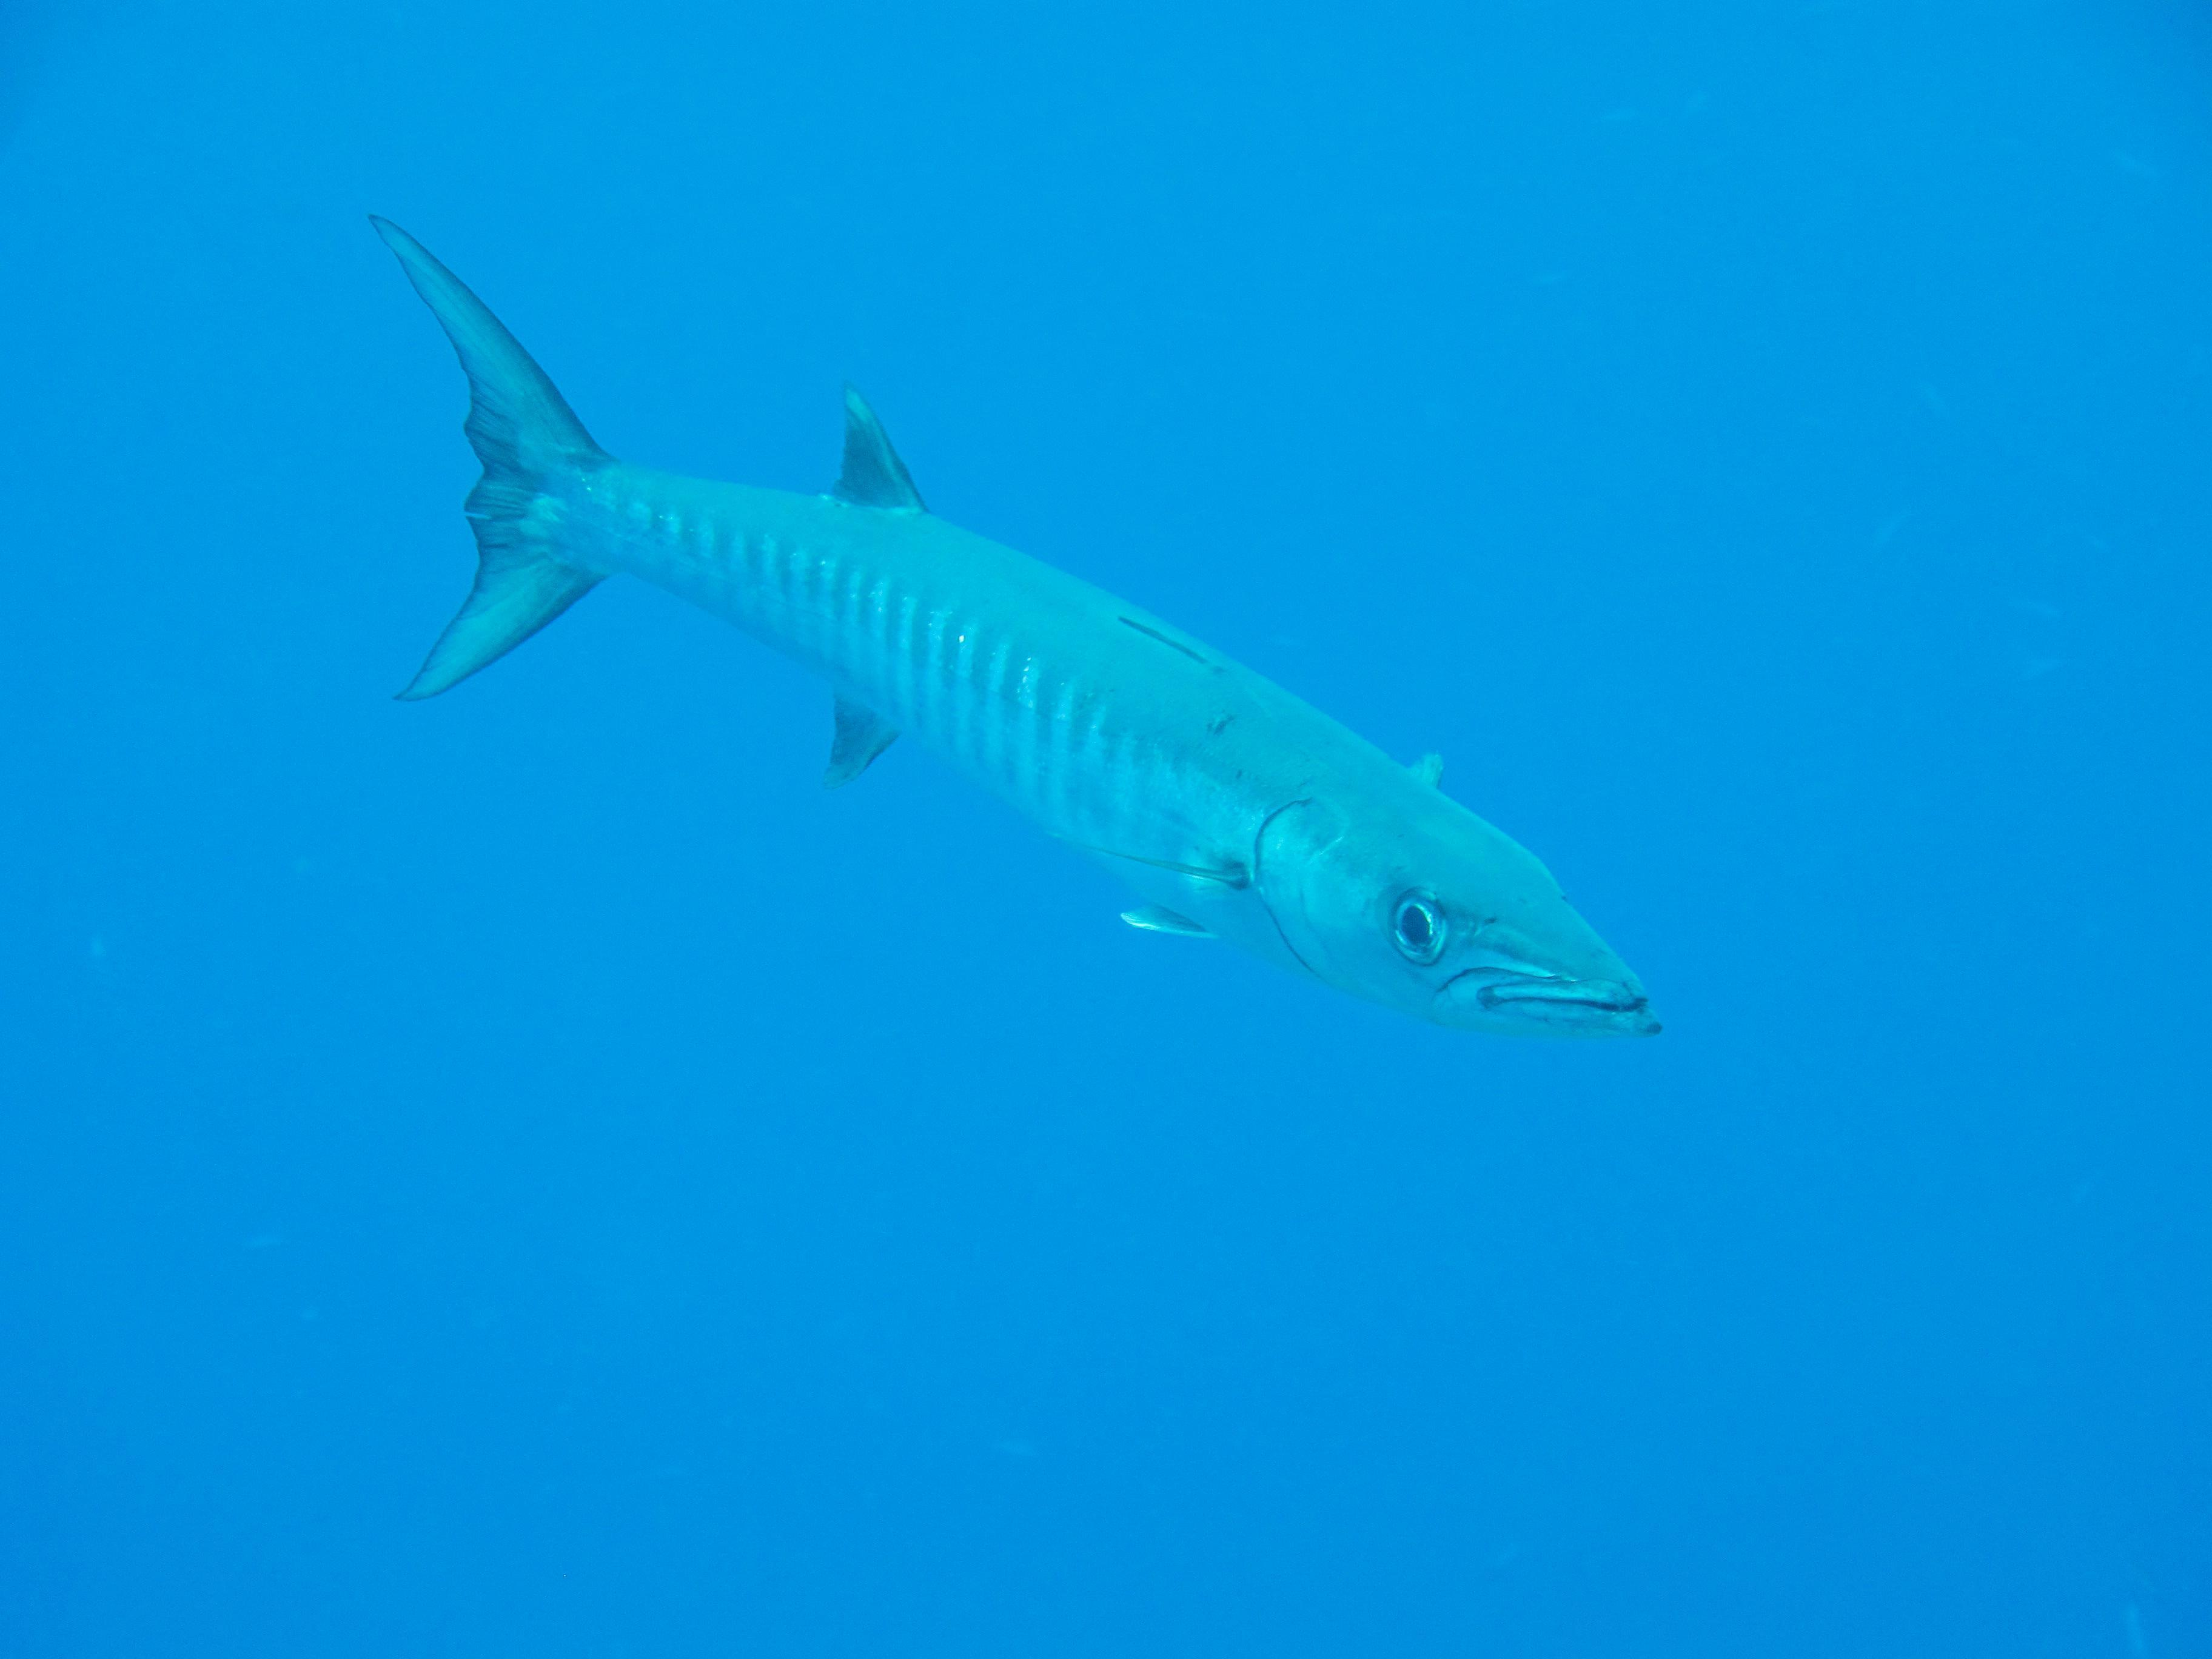Sphyraena qenie: (350, 192, 1683, 1098)
